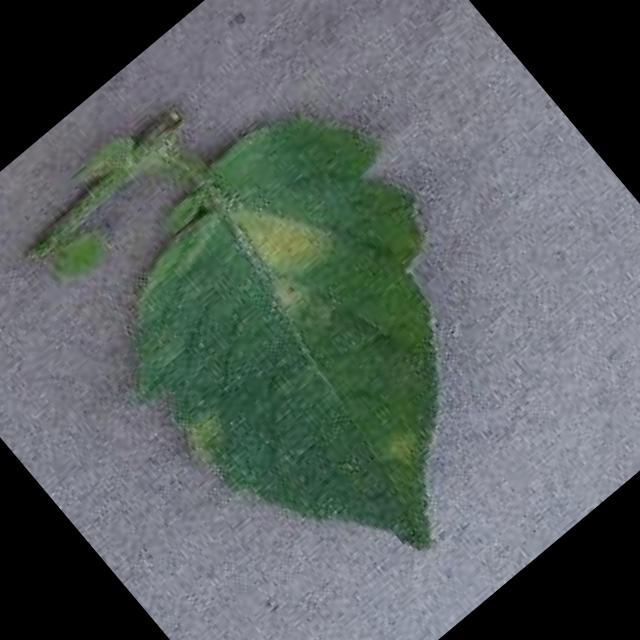Tomato mold leaf: (43, 69, 602, 639)
